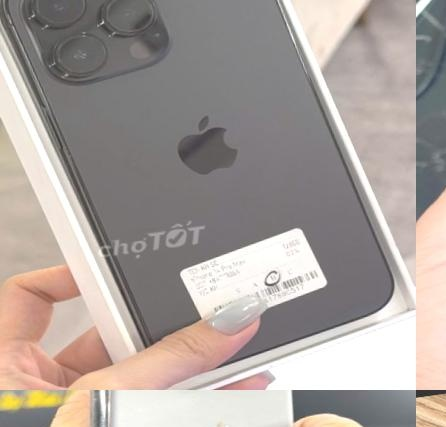scratch: (85, 405, 125, 427)
